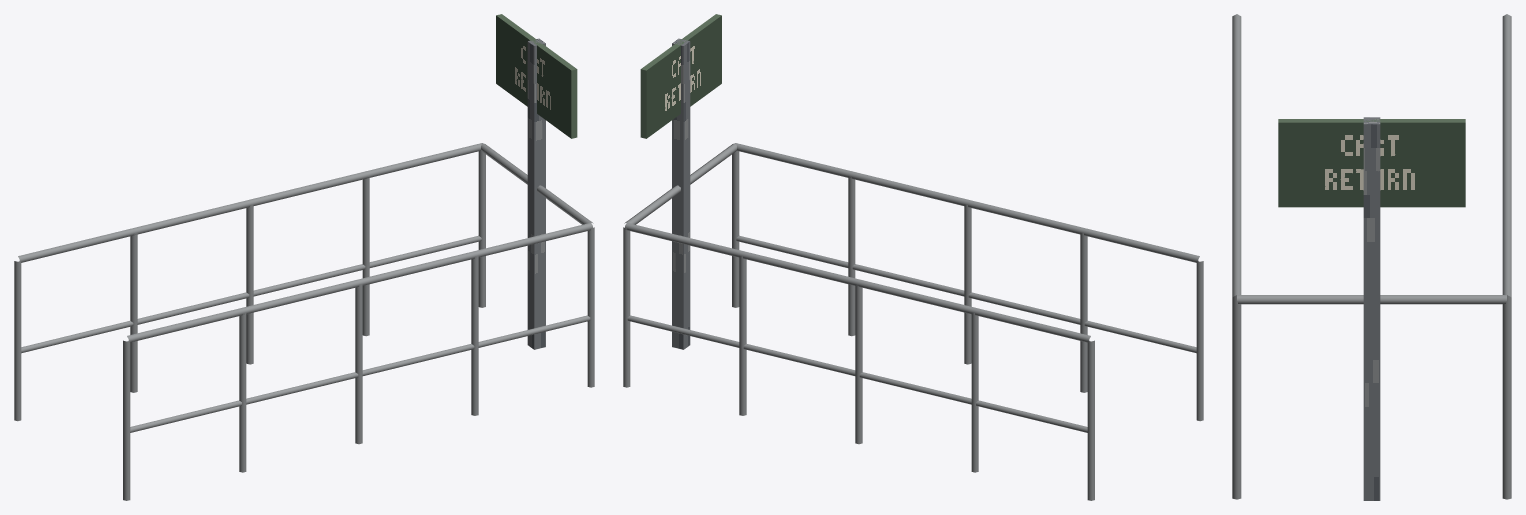
File: COM_CartCorral.glb
The picture shows the model from 3 angles, left to right: view 1: azimuth 30°, elevation 25°; view 2: azimuth 150°, elevation 25°; view 3: azimuth 270°, elevation 25°; orthographic projection. The views are drawn at different scales.
Parts seen in each view (by area): view 1: COM_CartCorral_Mesh; view 2: COM_CartCorral_Mesh; view 3: COM_CartCorral_Mesh.
Part boxes in pixels (<box>): COM_CartCorral_Mesh: <box>14,14,594,500</box>; COM_CartCorral_Mesh: <box>623,14,1203,500</box>; COM_CartCorral_Mesh: <box>1232,14,1511,500</box>.
Size of what is drawn, in the model's own units: 3.26 by 2 by 1.34.
Materials: 1 (1 with a texture image).
